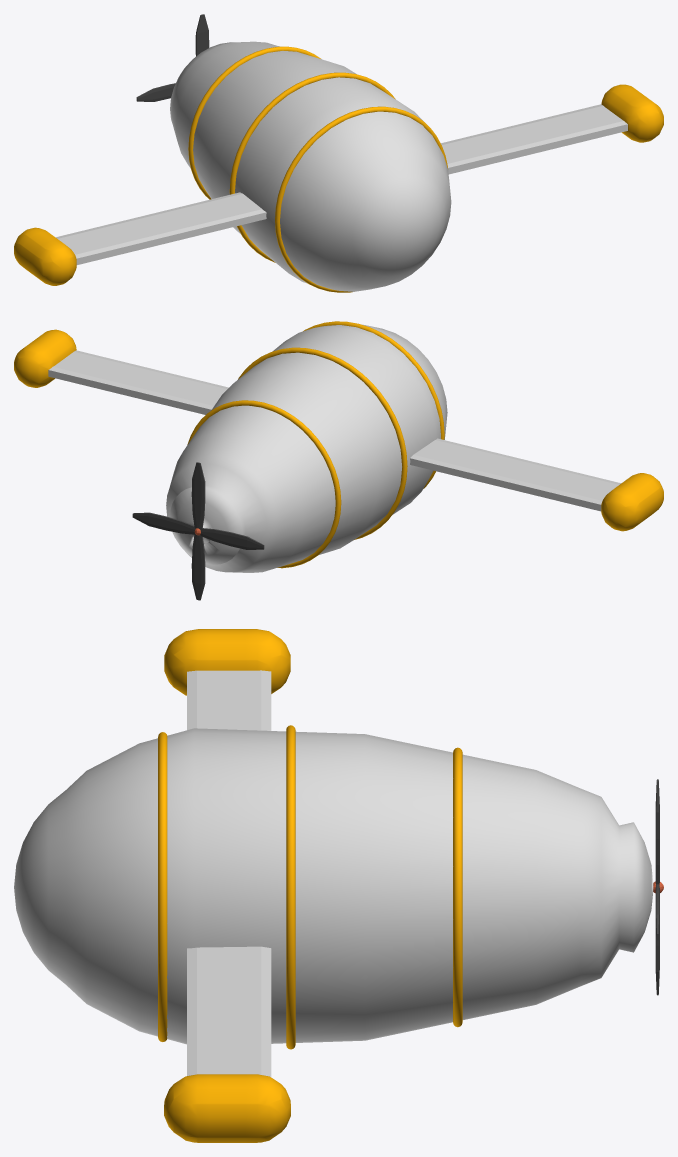
The model's file is Baloon.glb.
3 renders of one model, top to bottom at view 1: azimuth 30°, elevation 25°; view 2: azimuth 150°, elevation 25°; view 3: azimuth 270°, elevation 25°, orthographic. The views are drawn at different scales.
Parts seen in each view (by area): view 1: Body, Cube, Mball.002, BézierCircle.003, BézierCircle.001, BézierCircle.002, Propeller; view 2: Body, Cube, Mball.002, Propeller, BézierCircle.001, BézierCircle.002, BézierCircle.003; view 3: Body, Cube, Mball.002, BézierCircle.001, BézierCircle.003, BézierCircle.002, Propeller.
Boxes of the visible parts, left/top/right/bottom form: Body: left=170, top=41, right=451, bottom=291; Cube: left=56, top=104, right=627, bottom=264; Mball.002: left=14, top=84, right=663, bottom=285; BézierCircle.003: left=275, top=106, right=448, bottom=292; BézierCircle.001: left=229, top=72, right=395, bottom=262; BézierCircle.002: left=188, top=46, right=320, bottom=199; Propeller: left=136, top=14, right=209, bottom=101; Body: left=166, top=324, right=447, bottom=572; Cube: left=48, top=350, right=620, bottom=511; Mball.002: left=14, top=329, right=663, bottom=531; Propeller: left=132, top=462, right=264, bottom=600; BézierCircle.001: left=238, top=347, right=407, bottom=539; BézierCircle.002: left=187, top=400, right=341, bottom=568; BézierCircle.003: left=303, top=321, right=444, bottom=488; Body: left=14, top=728, right=653, bottom=1044; Cube: left=187, top=670, right=271, bottom=1076; Mball.002: left=164, top=629, right=290, bottom=1142; BézierCircle.001: left=286, top=725, right=295, bottom=1049; BézierCircle.003: left=158, top=732, right=167, bottom=1041; BézierCircle.002: left=453, top=747, right=462, bottom=1027; Propeller: left=655, top=779, right=659, bottom=995.
Size of the model in its own units: 9.54 by 2.76 by 5.53.
